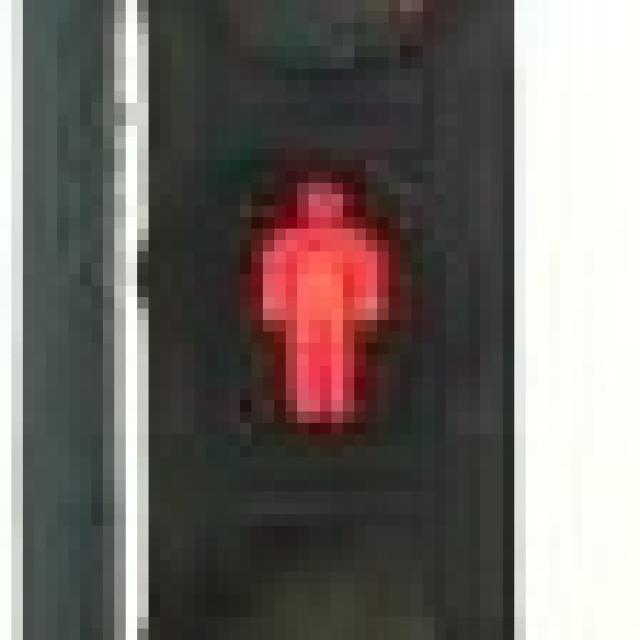red-crossing: (206, 126, 423, 434)
